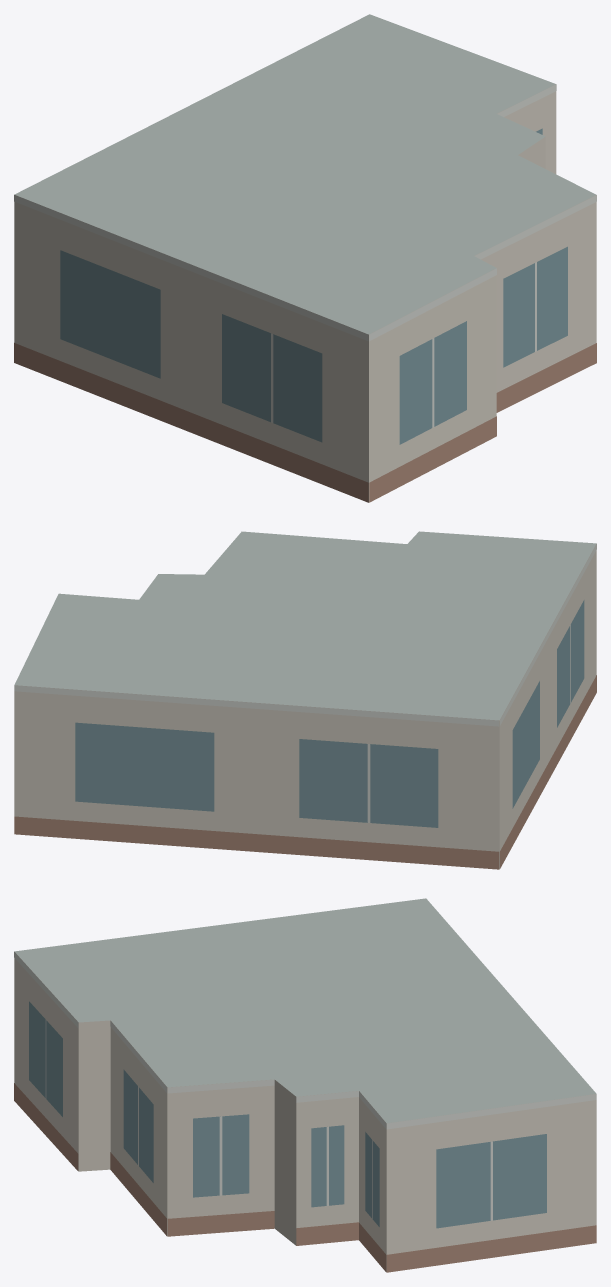
Rendered from survey-upis-33022054.glb.
3 views of the same model, one above another, from view 1: azimuth 30°, elevation 25°; view 2: azimuth 150°, elevation 25°; view 3: azimuth 270°, elevation 25° (orthographic). The views are drawn at different scales.
Visible parts, largest first — view 1: survey-upis-33022054.tmp; view 2: survey-upis-33022054.tmp; view 3: survey-upis-33022054.tmp.
Boxes of the visible parts, box(x1,y1,x2,y2) form: survey-upis-33022054.tmp: box(14, 14, 596, 502); survey-upis-33022054.tmp: box(14, 531, 596, 869); survey-upis-33022054.tmp: box(14, 898, 596, 1272).
Bounding box in the file's own units: 9.88 × 3.05 × 10.8.
